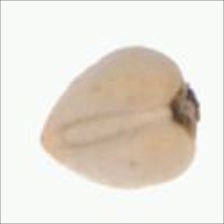L5: (60, 103, 169, 151), (166, 75, 203, 143)
L6: (38, 43, 204, 195)
